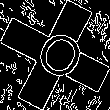O_SW: (24, 22, 86, 88)
